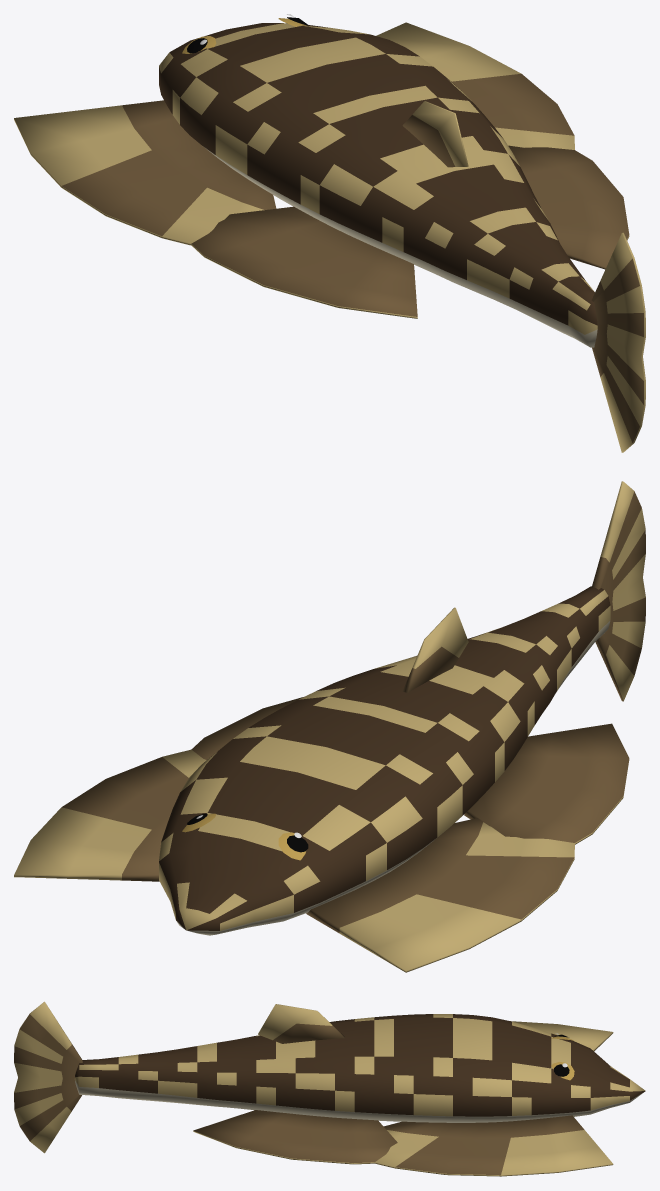
Rendered from hillstream_loach.glb.
The picture shows the model from 3 angles, top to bottom: view 1: azimuth 30°, elevation 25°; view 2: azimuth 150°, elevation 25°; view 3: azimuth 270°, elevation 25°; orthographic projection. The views are drawn at different scales.
Visible parts, largest first — view 1: hillstream_loach; view 2: hillstream_loach; view 3: hillstream_loach.
Part boxes in pixels (bbox=[...]): hillstream_loach: bbox=[14, 14, 645, 452]; hillstream_loach: bbox=[14, 481, 645, 972]; hillstream_loach: bbox=[14, 1001, 645, 1176].
Size of the model in its own units: 1.23 by 0.5615 by 2.12.
